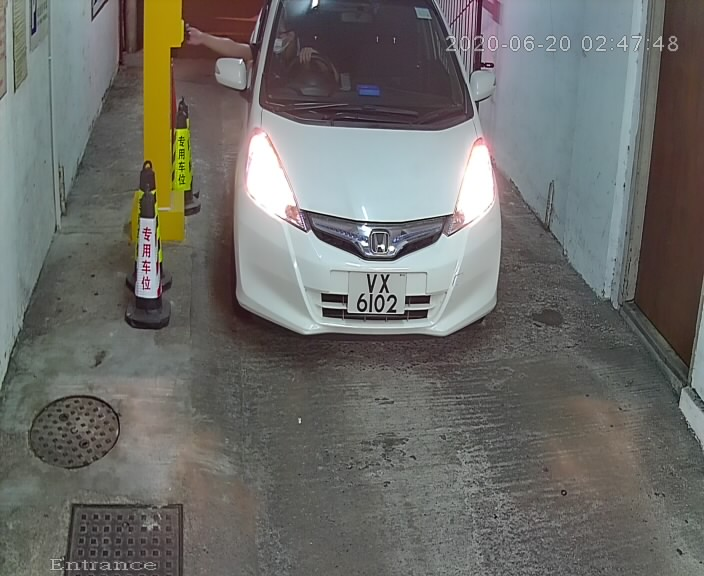privatecar: (192, 3, 536, 369)
